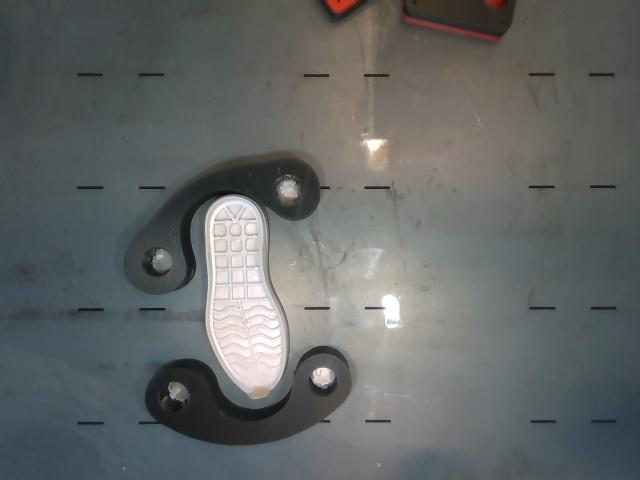shoes: (206, 197, 285, 398)
